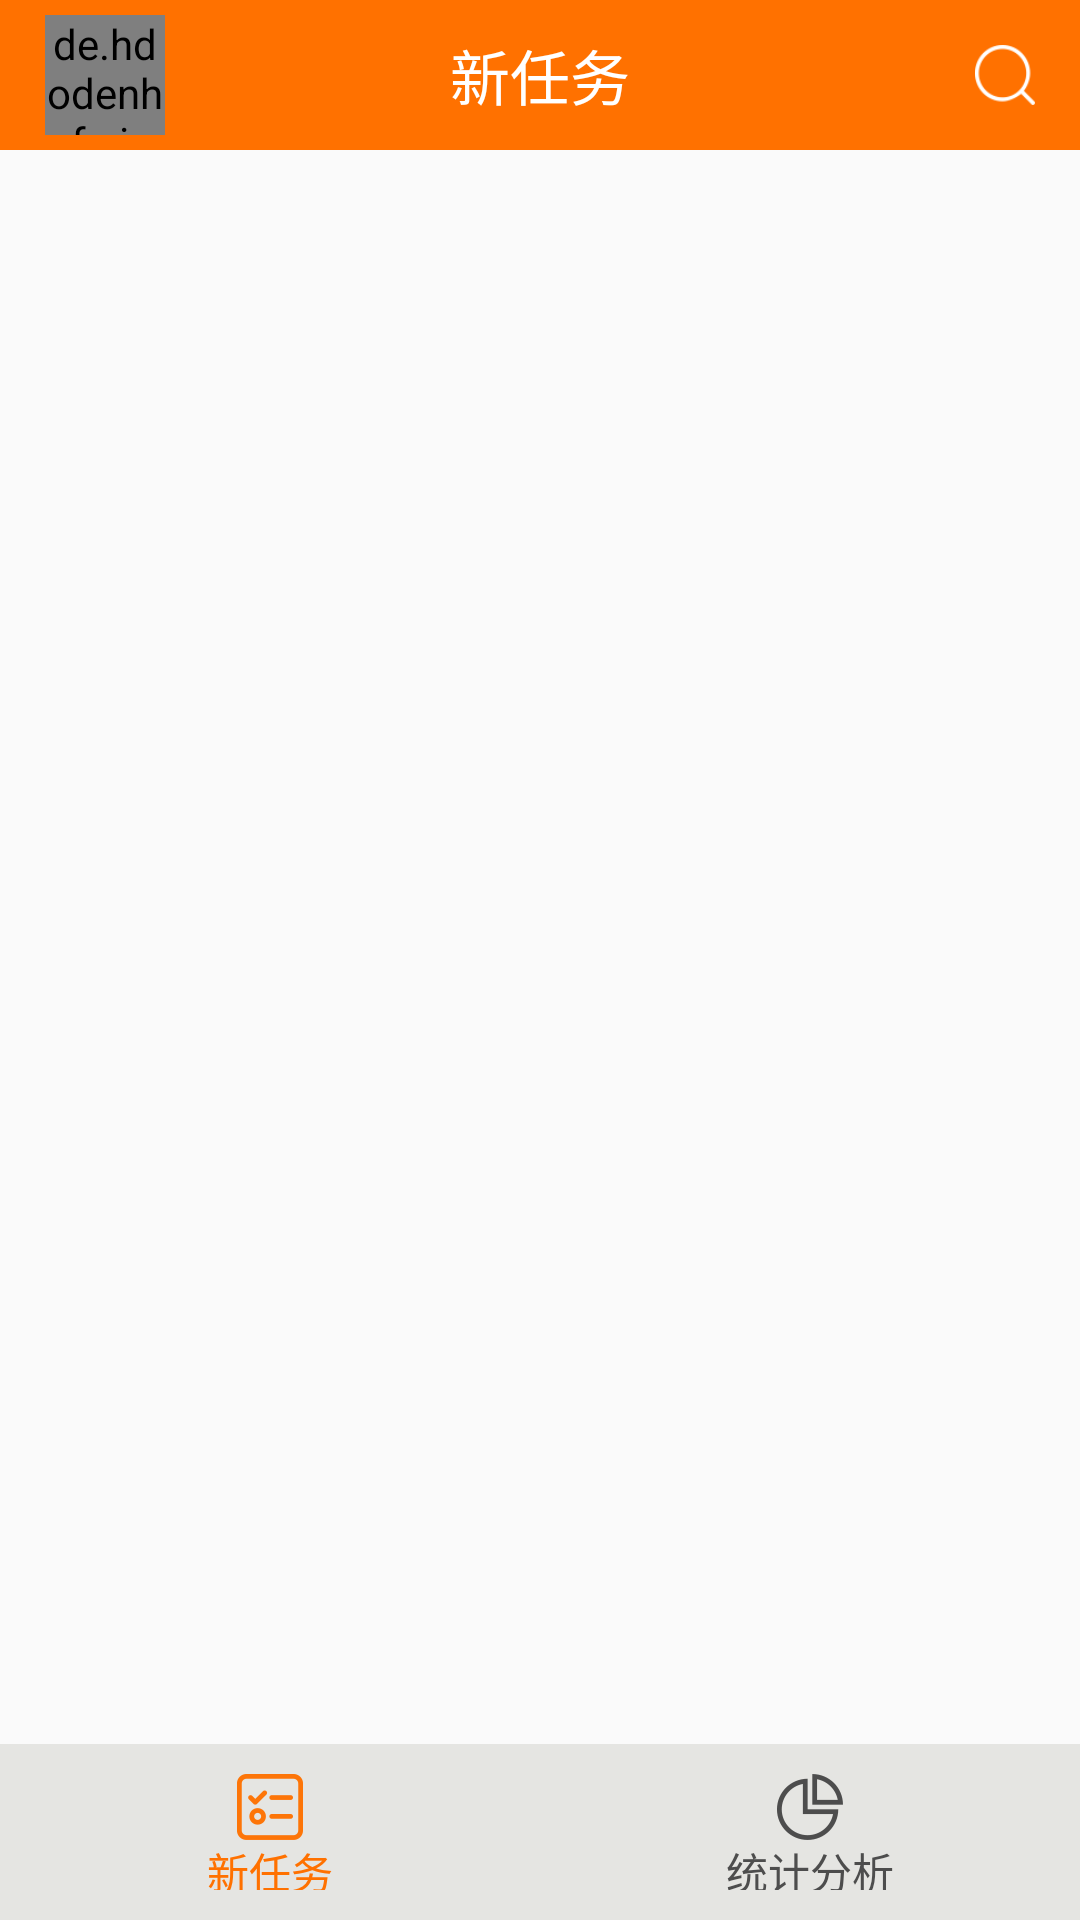

Where icons sit on this 1080×1920 app screen, as (x1, y1, x2, y2):
sousuo: (975, 45, 1035, 105)
